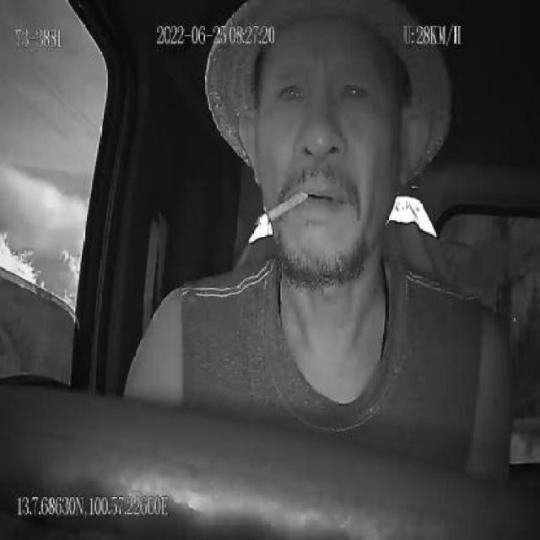smoking: (257, 190, 309, 228)
